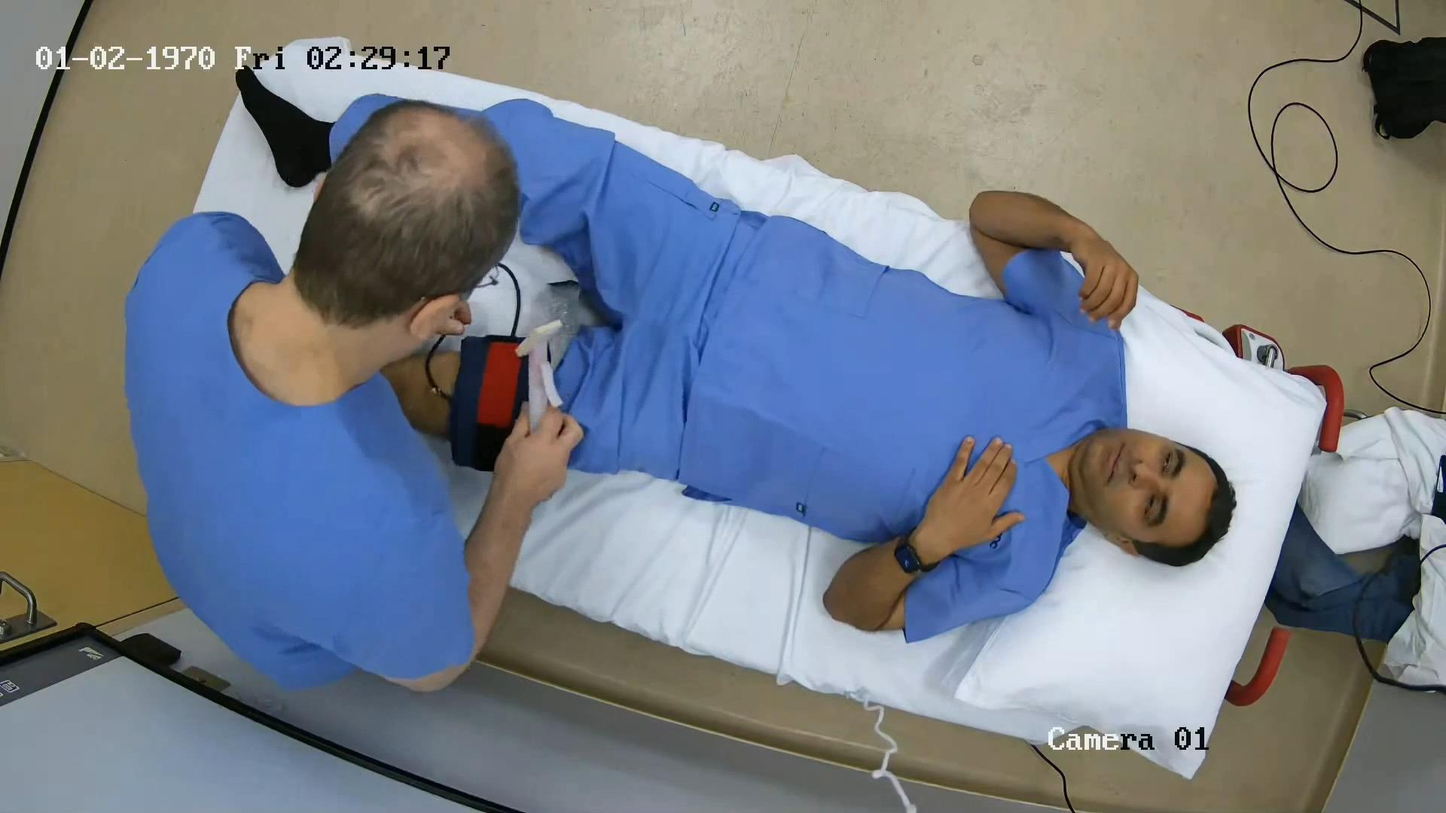patient: (136, 70, 1324, 775)
